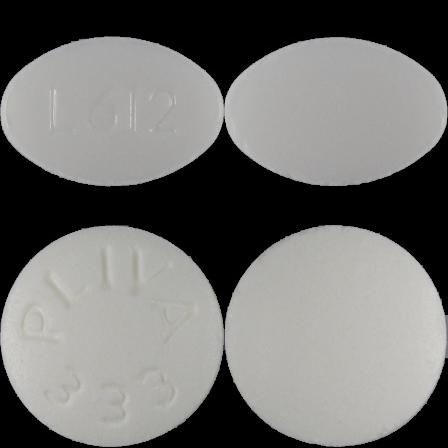68788-9080: (0, 0, 224, 224)
